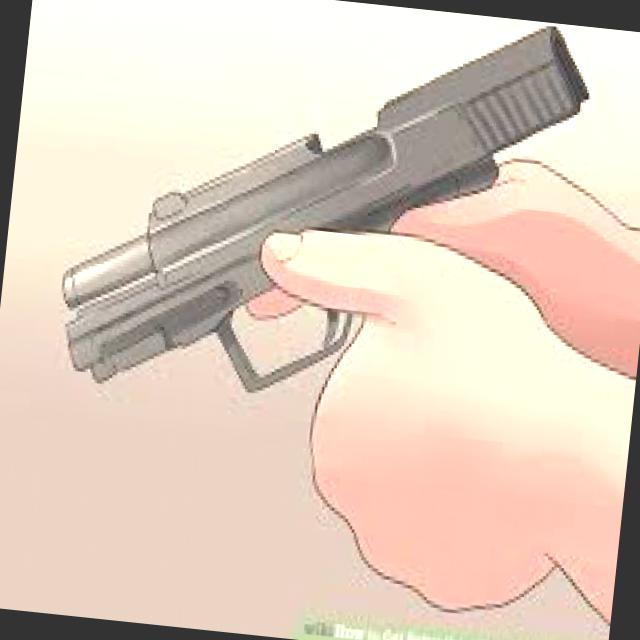handgun: (34, 0, 597, 412)
